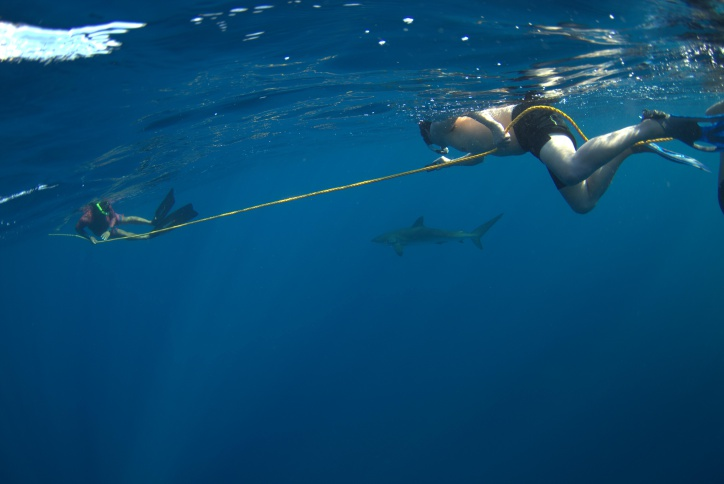Sedoso: (367, 203, 511, 270)
